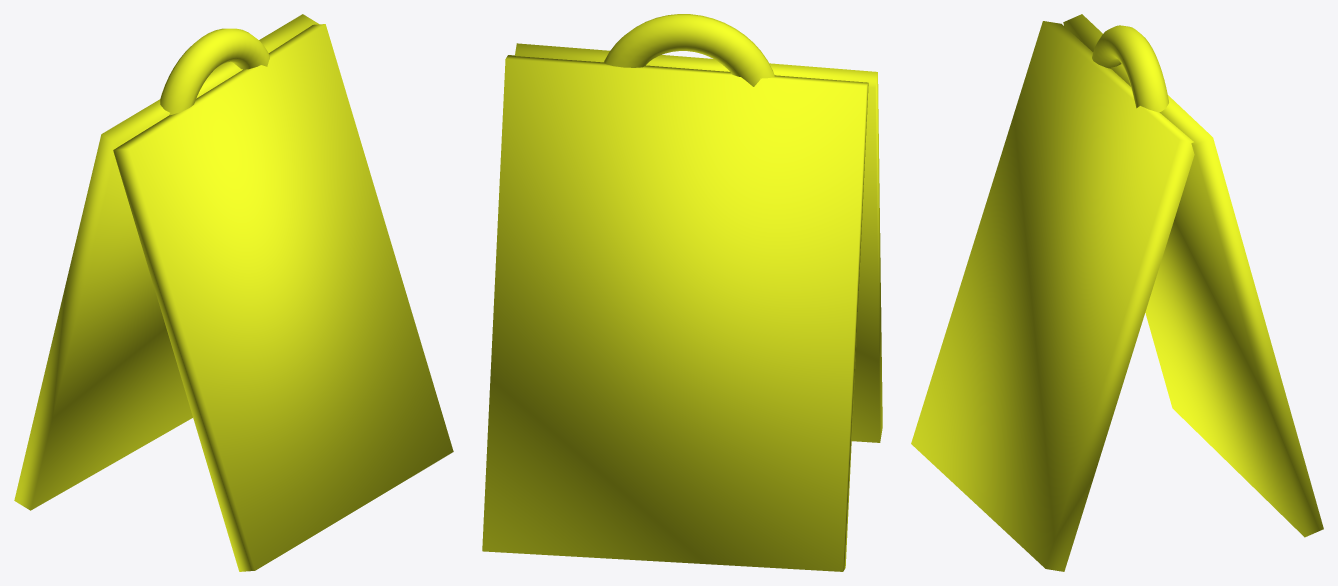
File: Wetfloorwithsign.fbx
3 renders of one model, left to right at view 1: azimuth 30°, elevation 25°; view 2: azimuth 150°, elevation 25°; view 3: azimuth 270°, elevation 25°, orthographic. The views are drawn at different scales.
Parts seen in each view (by area): view 1: Torus; view 2: Torus; view 3: Torus.
Boxes of the visible parts, x1,y1,x2,y2 form: Torus: [14, 14, 453, 571]; Torus: [482, 14, 882, 571]; Torus: [911, 14, 1323, 571].
Size of what is drawn, in the model's own units: 32.42 by 38.13 by 31.23.
